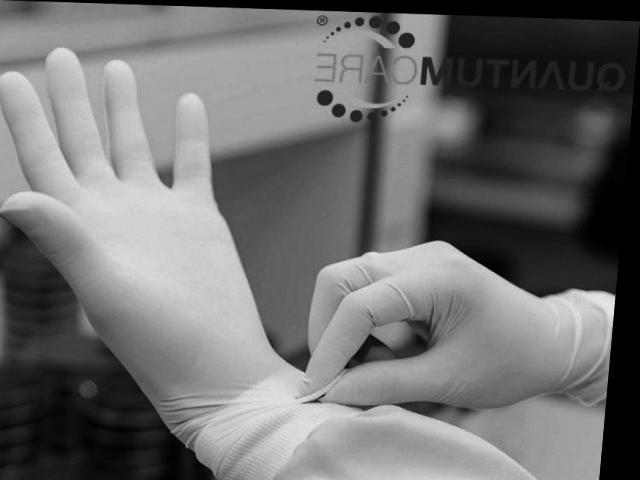gloved: (0, 43, 270, 368), (299, 239, 556, 412)
